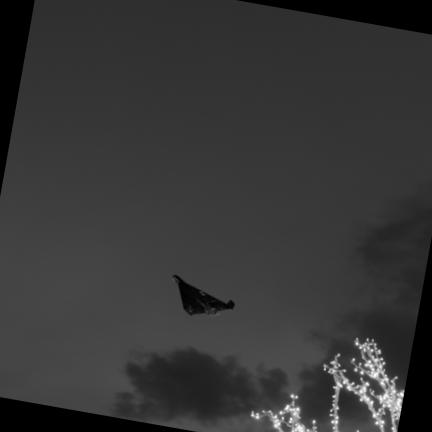Shahed: (174, 276, 234, 316)
